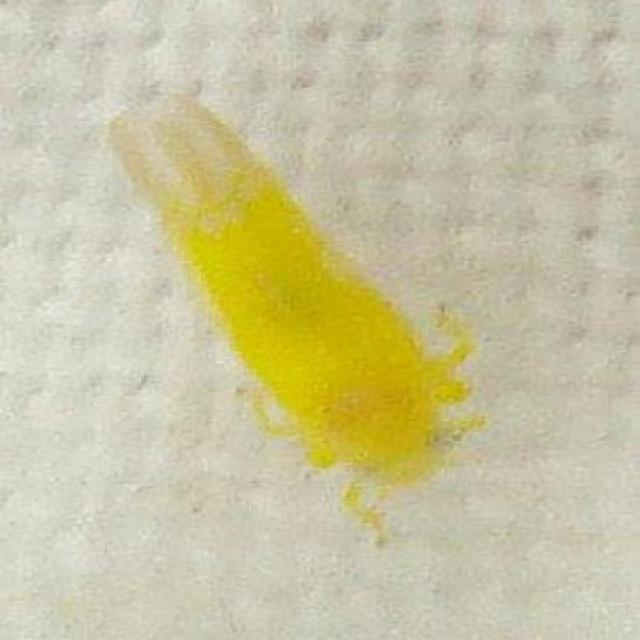green-leafhopper: (91, 87, 478, 527)
